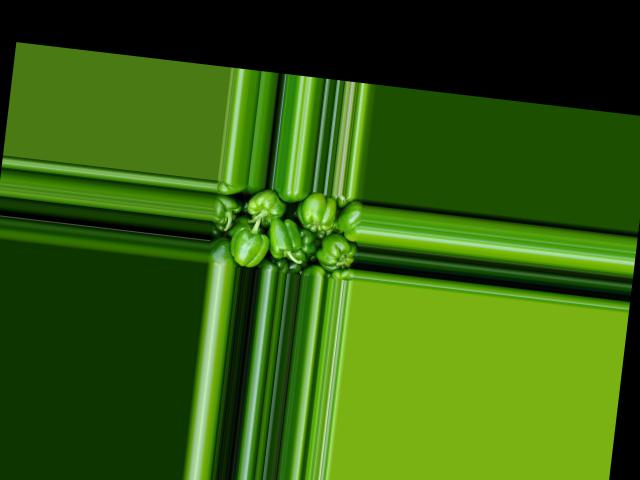bell_pepper: (206, 236, 243, 267)
